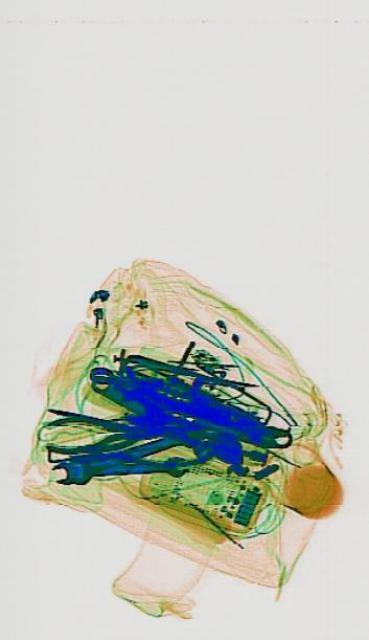Wrench: (49, 451, 188, 485)
